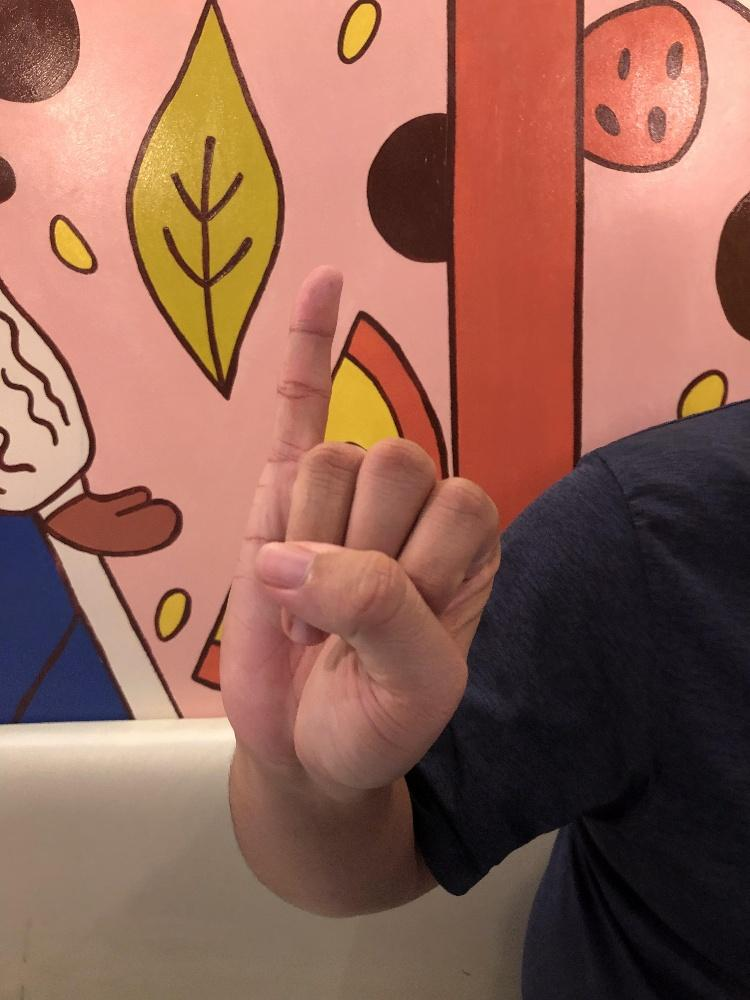i: (216, 260, 502, 787)
